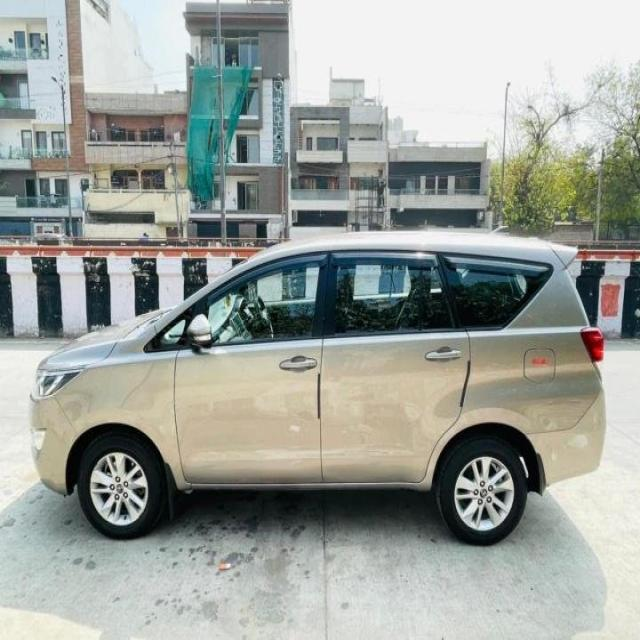light_vehicle: (30, 229, 608, 548)
